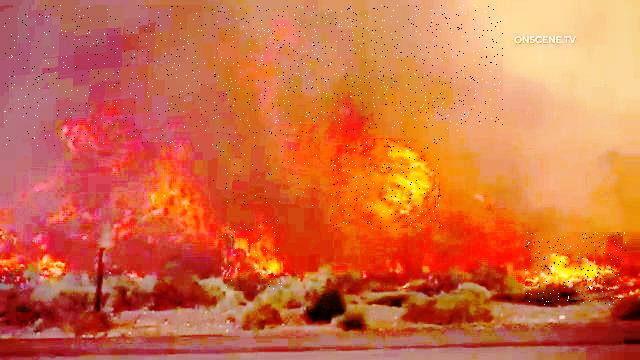fire: (330, 139, 442, 231), (526, 232, 627, 305), (221, 219, 284, 291)
smoke: (5, 6, 245, 148), (246, 6, 503, 133), (213, 126, 318, 207)
